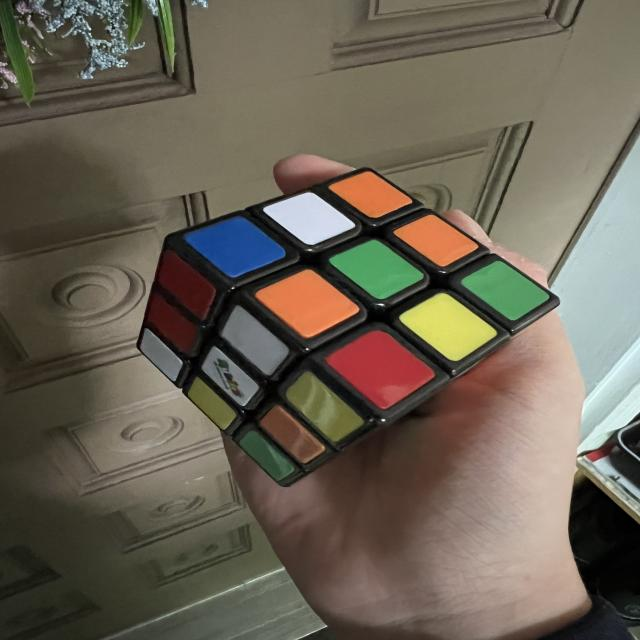blue: (181, 195, 288, 297)
center: (327, 223, 425, 314), (195, 345, 262, 410)
green: (327, 223, 425, 314), (459, 247, 551, 331), (236, 427, 299, 487)
orange: (251, 251, 361, 355), (392, 201, 479, 278), (327, 156, 413, 232), (257, 402, 327, 470)
red: (324, 312, 437, 423), (147, 249, 225, 321), (139, 294, 204, 356)
white: (261, 174, 357, 262), (214, 303, 293, 379), (196, 345, 262, 408), (131, 326, 189, 383)
yellow: (396, 278, 499, 374), (281, 368, 366, 450), (181, 376, 239, 432)
